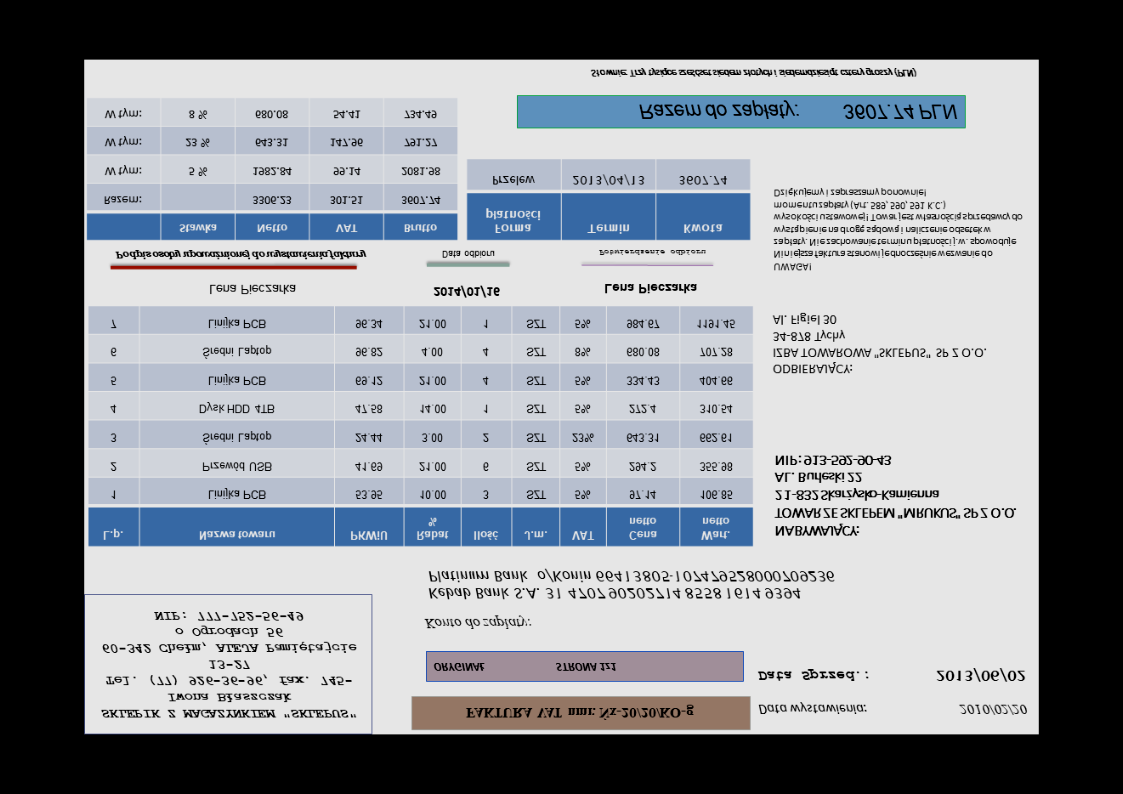Table: (86, 305, 755, 548), (85, 96, 458, 241), (466, 158, 752, 241)
TextBox: (99, 609, 360, 724), (770, 184, 1023, 274), (772, 451, 1019, 539), (770, 311, 988, 377), (427, 568, 837, 603), (634, 100, 960, 122), (589, 65, 916, 82), (463, 702, 696, 723), (113, 247, 369, 263), (431, 659, 619, 675), (423, 613, 533, 632), (757, 666, 870, 684), (757, 702, 868, 717), (601, 281, 698, 298), (934, 668, 1026, 684), (207, 282, 298, 298), (598, 247, 706, 259), (431, 284, 502, 299), (957, 703, 1028, 717), (440, 247, 496, 261)
